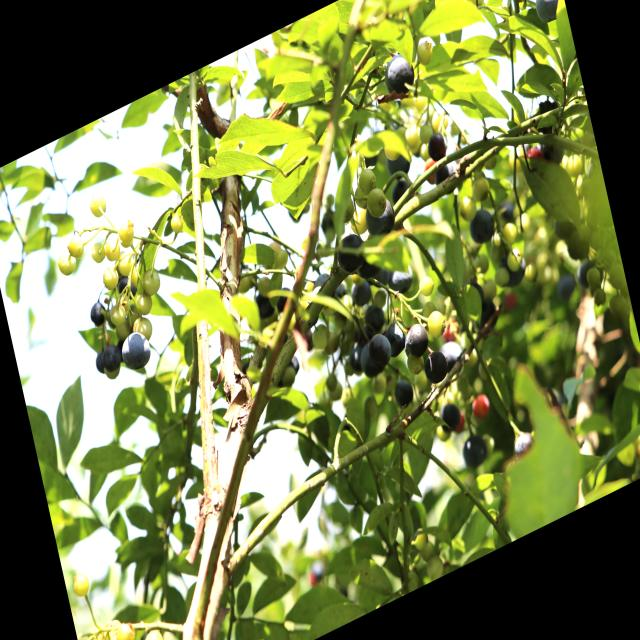blueberry: (376, 47, 420, 103), (117, 320, 153, 376), (333, 227, 369, 280), (362, 192, 398, 244), (429, 152, 465, 202), (494, 242, 529, 291), (382, 139, 416, 185), (469, 292, 502, 338), (458, 428, 491, 472), (465, 204, 497, 249), (528, 0, 568, 35), (356, 334, 385, 382), (402, 317, 432, 361), (421, 345, 450, 389), (437, 335, 466, 376), (353, 244, 384, 282), (574, 255, 604, 294), (368, 328, 394, 372), (436, 395, 463, 437), (381, 318, 407, 360), (386, 258, 414, 297), (308, 270, 336, 309), (344, 336, 369, 378), (391, 372, 416, 412), (114, 268, 140, 306), (361, 300, 387, 336), (388, 173, 414, 208), (424, 129, 449, 165), (100, 340, 124, 374), (349, 274, 372, 307), (87, 298, 108, 330), (496, 195, 518, 225), (92, 348, 106, 378)
blueberry-halfripe: (469, 390, 492, 421)
blueberry-unripe: (55, 245, 80, 280), (425, 304, 448, 342), (140, 264, 163, 300), (365, 185, 388, 219), (86, 190, 109, 224), (132, 312, 155, 344), (70, 569, 92, 602), (356, 164, 378, 195), (309, 322, 330, 354), (133, 289, 154, 319), (66, 232, 86, 263), (117, 217, 137, 247), (100, 263, 120, 293), (108, 300, 128, 329), (115, 249, 135, 278), (102, 234, 121, 264), (89, 238, 108, 267), (113, 288, 132, 317), (114, 618, 138, 640), (272, 245, 290, 273), (168, 210, 186, 237), (417, 274, 435, 298), (143, 625, 167, 640)
